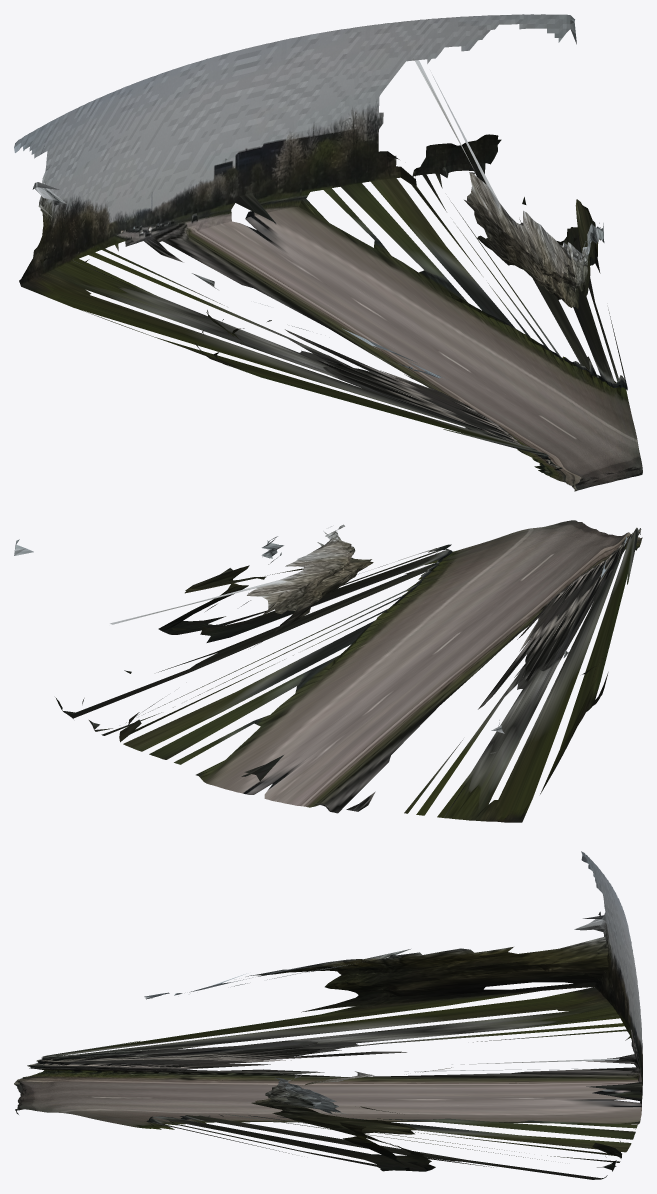
3 views of the same model, one above another, from view 1: azimuth 30°, elevation 25°; view 2: azimuth 150°, elevation 25°; view 3: azimuth 270°, elevation 25° (orthographic). The views are drawn at different scales.
Parts seen in each view (by area): view 1: defaultobject; view 2: defaultobject; view 3: defaultobject.
Boxes of the visible parts, x1,y1,x2,y2 form: defaultobject: (14, 14, 642, 491); defaultobject: (14, 520, 642, 822); defaultobject: (14, 851, 642, 1179).
Bounding box in the file's own units: 38.52 × 11.76 × 44.47.
1 material, 1 textured.
